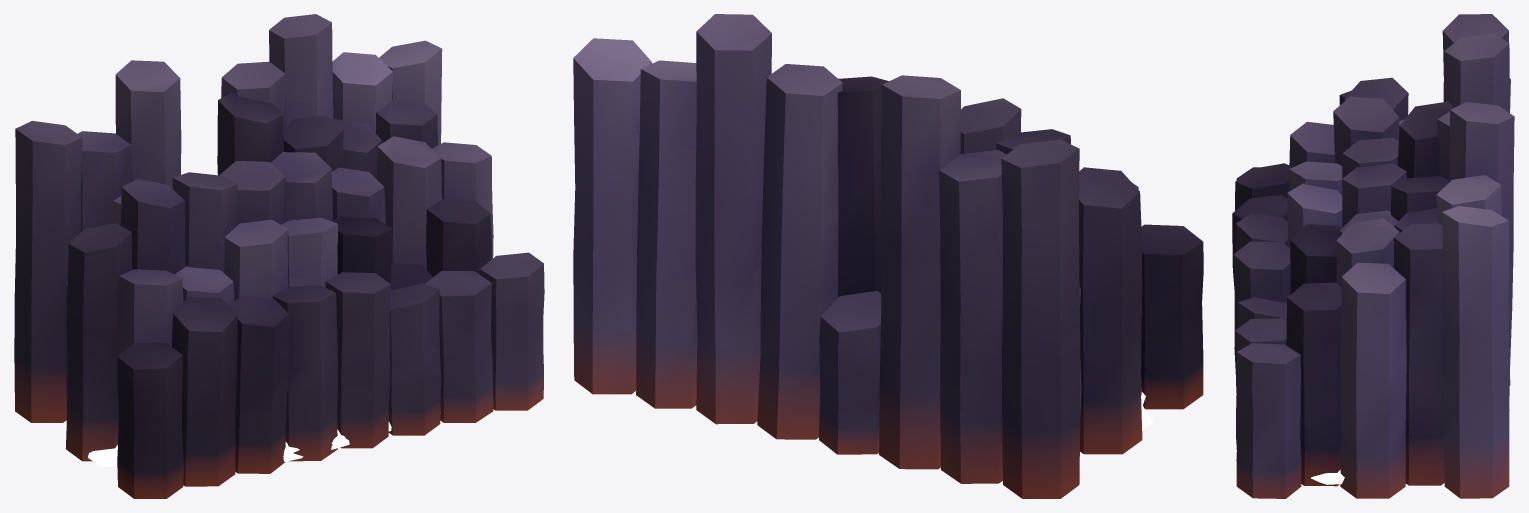
Rendered from ember_cliff_basalt_a.glb.
The picture shows the model from 3 angles, left to right: view 1: azimuth 30°, elevation 25°; view 2: azimuth 150°, elevation 25°; view 3: azimuth 270°, elevation 25°; orthographic projection. The views are drawn at different scales.
Parts seen in each view (by area): view 1: ember_cliff_basalt_a; view 2: ember_cliff_basalt_a; view 3: ember_cliff_basalt_a.
Boxes of the visible parts, box(x1,y1,x2,y2) form: ember_cliff_basalt_a: box(14, 14, 544, 498); ember_cliff_basalt_a: box(573, 14, 1203, 498); ember_cliff_basalt_a: box(1232, 14, 1514, 498).
Size of the model in its own units: 13.15 by 10.15 by 7.76.
